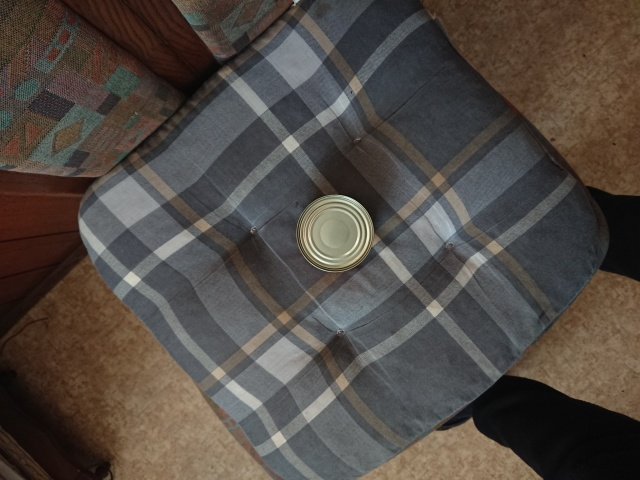Podravka Luncheon Meat 150g: (292, 191, 377, 275)
